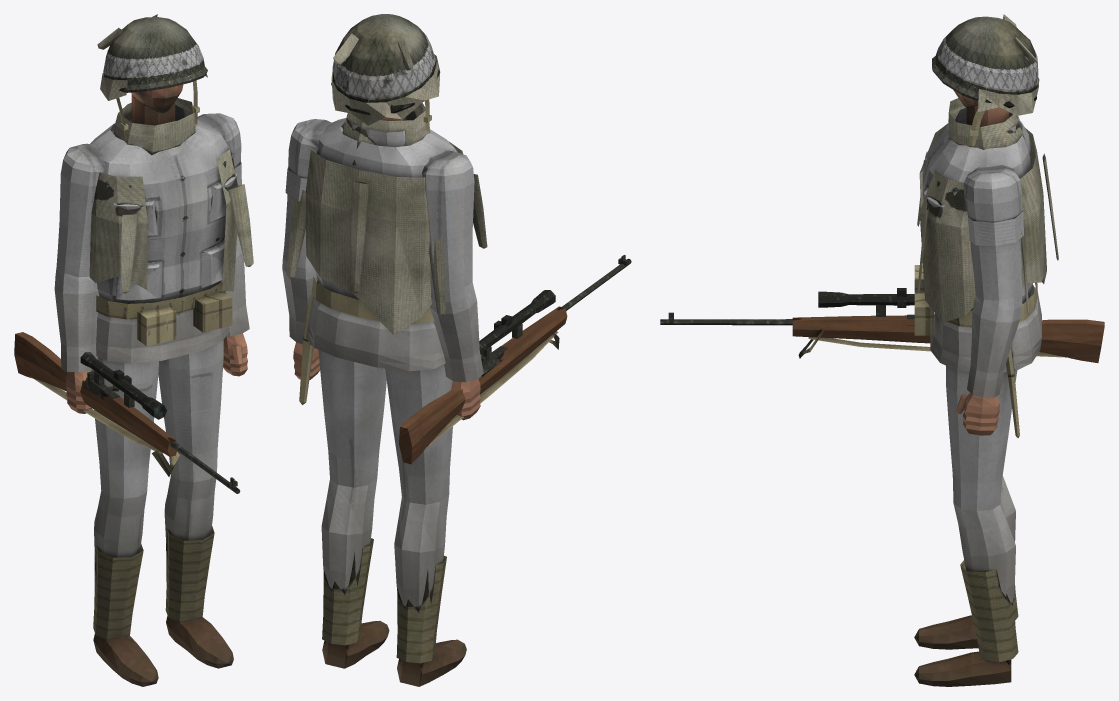
Rendered from sniper.glb.
3 renders of one model, left to right at view 1: azimuth 30°, elevation 25°; view 2: azimuth 150°, elevation 25°; view 3: azimuth 270°, elevation 25°, orthographic. The views are drawn at different scales.
Parts seen in each view (by area): view 1: sniper_LOD0; view 2: sniper_LOD0; view 3: sniper_LOD0.
Boxes of the visible parts, x1=… form: sniper_LOD0: x1=14, y1=14, x2=253, y2=686; sniper_LOD0: x1=282, y1=14, x2=631, y2=686; sniper_LOD0: x1=660, y1=14, x2=1104, y2=686.
Size of what is drawn, in the model's own units: 0.539 by 1.77 by 1.11.
1 material, 1 textured.
